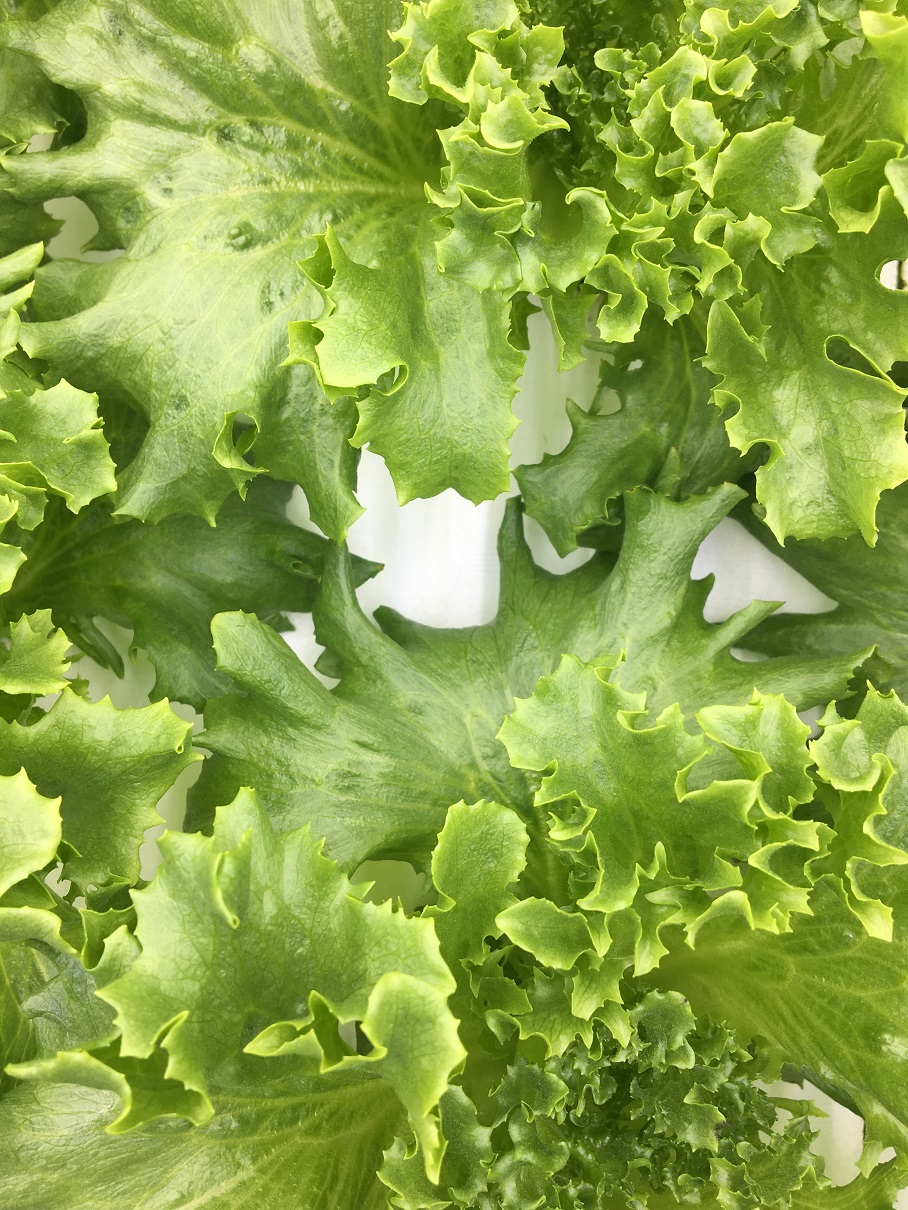tipburn: (677, 991, 700, 1012), (711, 1118, 730, 1139)
